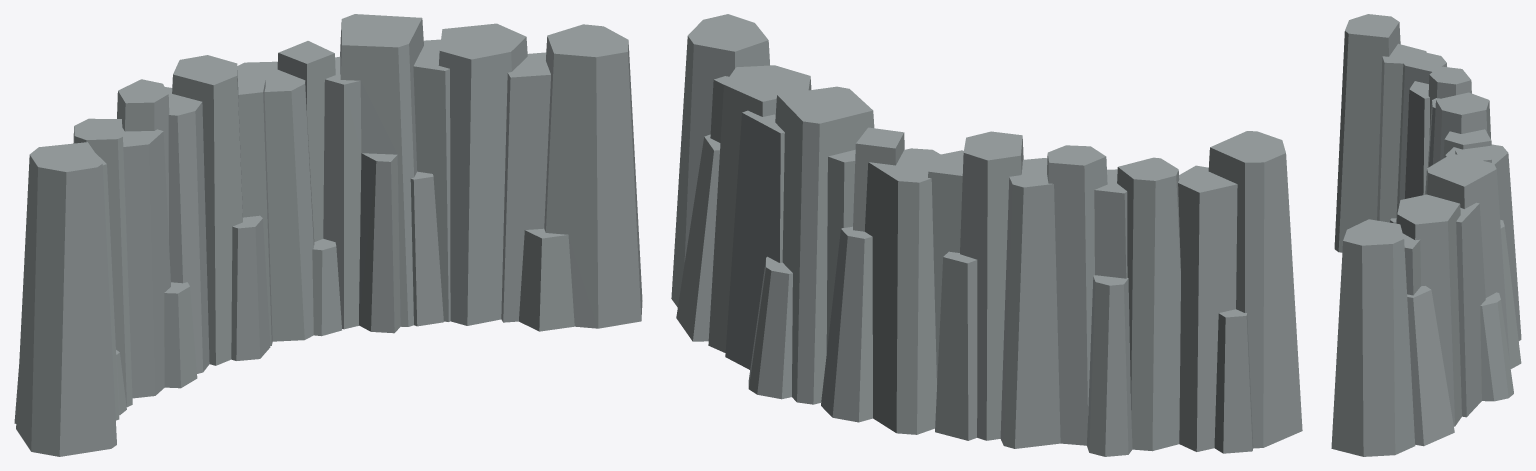
File: NHP_Rock_Wall_Round_A1_01.fbx
The picture shows the model from 3 angles, left to right: view 1: azimuth 30°, elevation 25°; view 2: azimuth 150°, elevation 25°; view 3: azimuth 270°, elevation 25°; orthographic projection. The views are drawn at different scales.
Visible parts, largest first — view 1: NHP_Rock_Wall_Round_A1_01; view 2: NHP_Rock_Wall_Round_A1_01; view 3: NHP_Rock_Wall_Round_A1_01.
Boxes of the visible parts, x1,y1,x2,y2 form: NHP_Rock_Wall_Round_A1_01: (14,14,642,456); NHP_Rock_Wall_Round_A1_01: (671,14,1302,456); NHP_Rock_Wall_Round_A1_01: (1331,14,1521,456).
Size of the model in its own units: 28.72 by 12.47 by 9.96.
